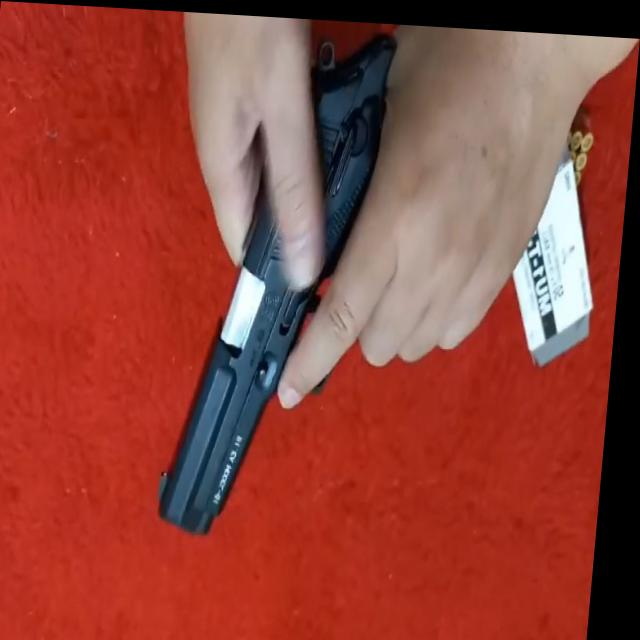handgun: (157, 9, 392, 564)
